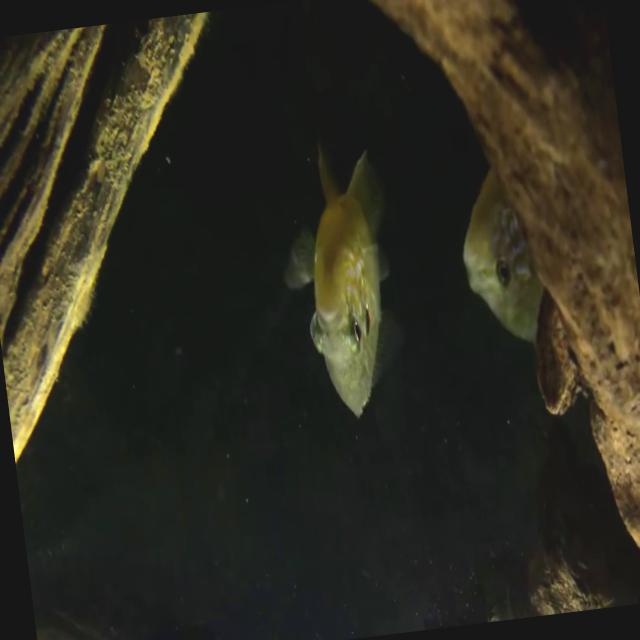Gunes Levregi: (269, 136, 412, 427), (451, 157, 553, 353)
